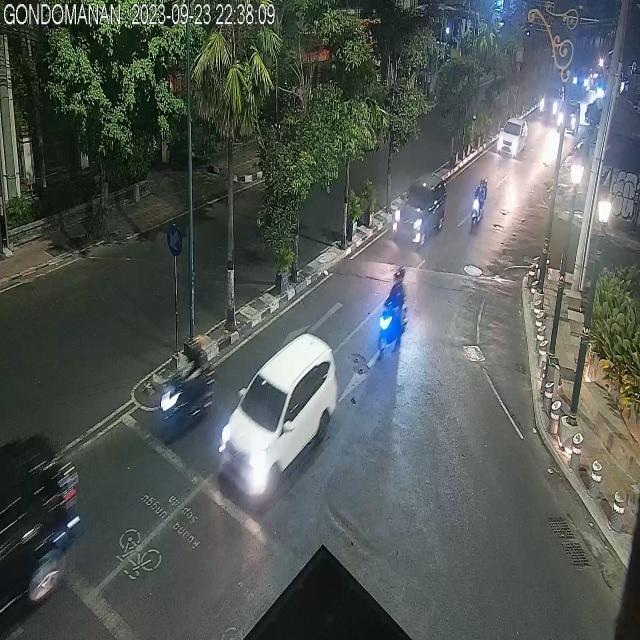car: (220, 334, 344, 495), (0, 430, 83, 626), (396, 177, 446, 249), (497, 118, 527, 160), (540, 77, 566, 121)
motorcycle: (161, 336, 215, 436), (380, 267, 412, 357), (468, 176, 488, 242)
